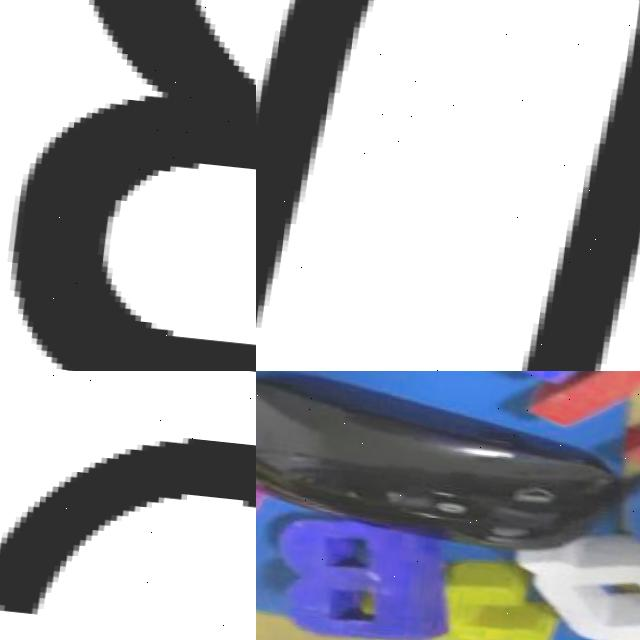B: (270, 496, 462, 640)
C: (0, 434, 256, 612)
Q: (516, 525, 640, 640)
R: (0, 0, 256, 371)
U: (256, 0, 640, 371), (511, 371, 640, 480)
